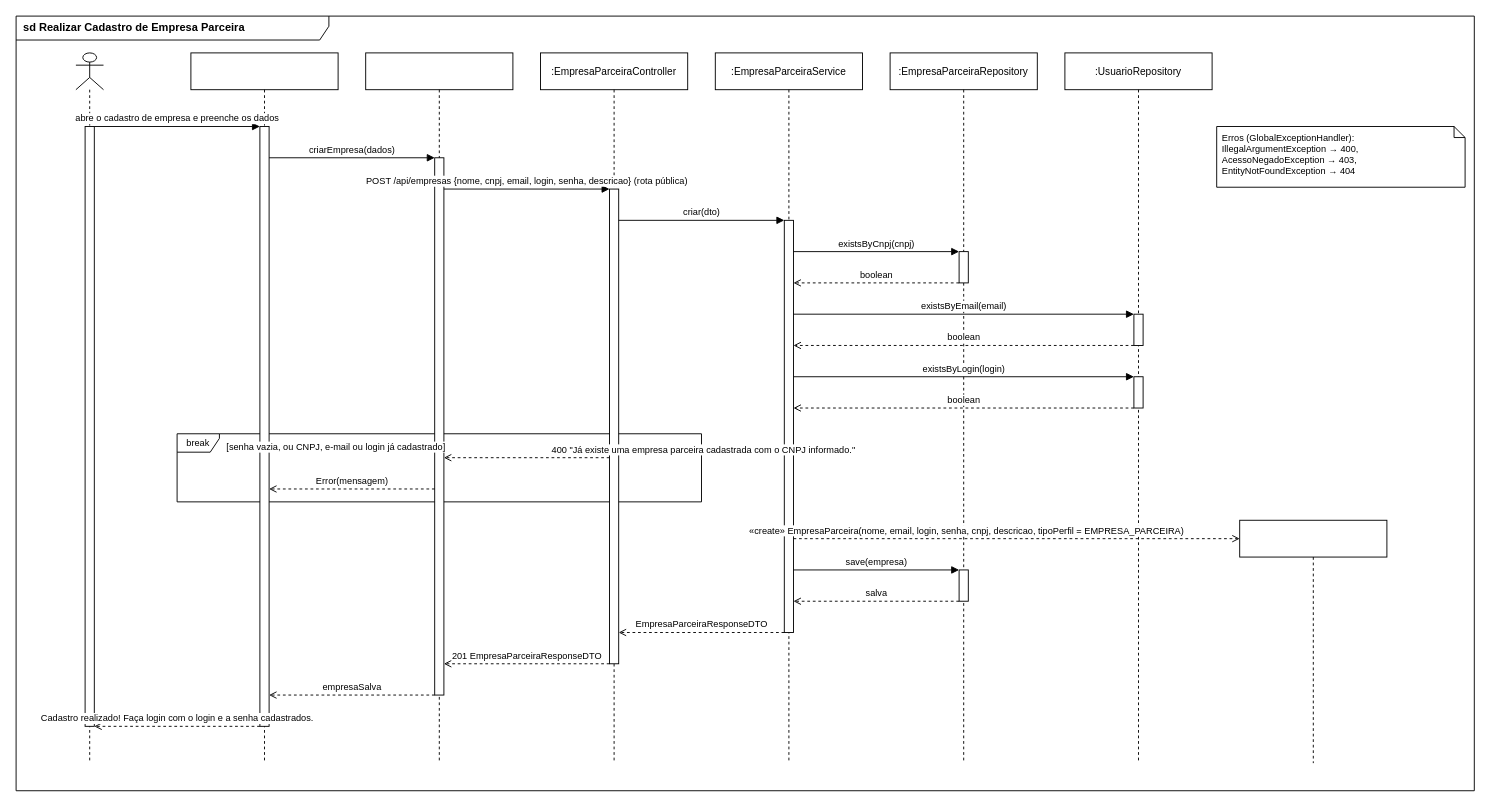
Image size: 1490x807. Some labels were removed from this diagram. Here are the shapes that lost their labels. From the top down, the box of each, then its label:
(75, 52, 104, 763): Empresa Parceira
(190, 52, 338, 763): :AuthView
(365, 52, 513, 763): api.js
(1239, 519, 1387, 763): empresa:EmpresaParceira
